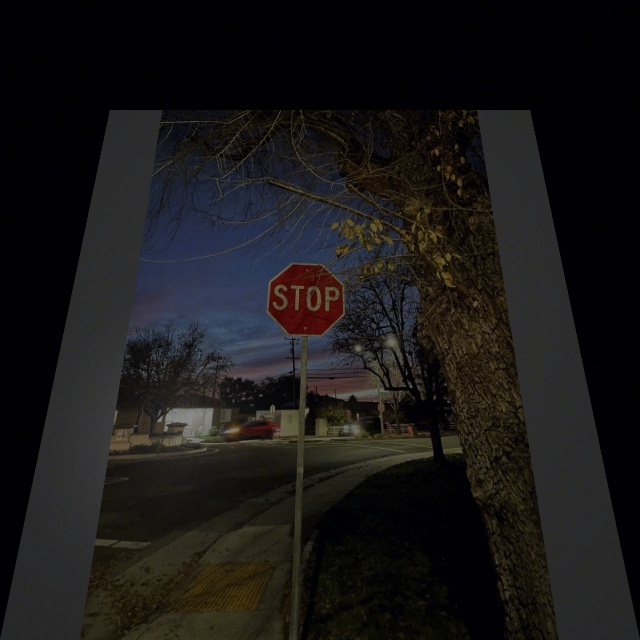Stop: (265, 263, 346, 336)
